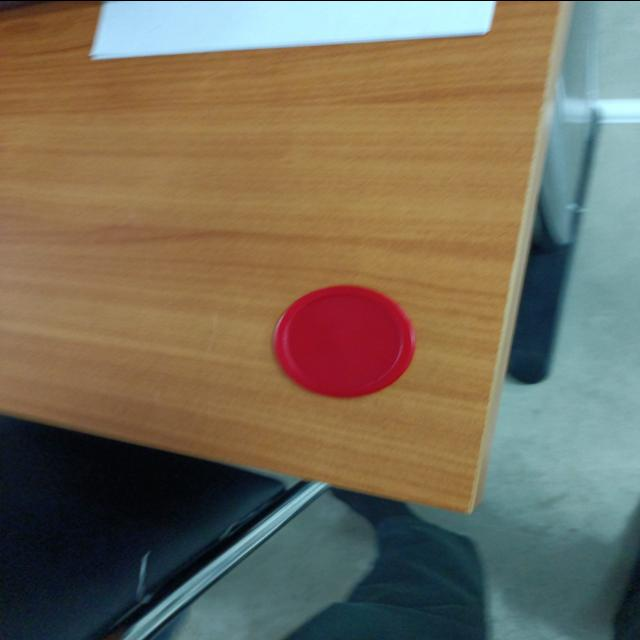chip: (269, 283, 416, 399)
